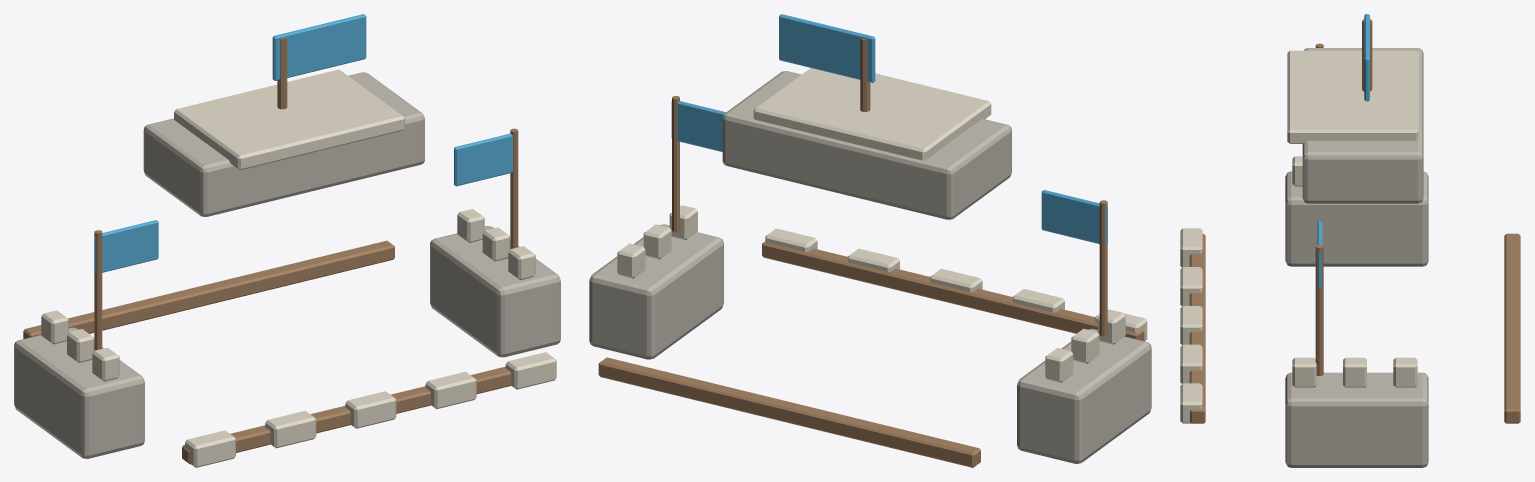
File: hq_theme_castle.glb
The picture shows the model from 3 angles, left to right: view 1: azimuth 30°, elevation 25°; view 2: azimuth 150°, elevation 25°; view 3: azimuth 270°, elevation 25°; orthographic projection. The views are drawn at different scales.
Visible parts, largest first — view 1: Castle_CommandCrown, Castle_CommandCrownTrim, Castle_Shoulder_R, Castle_Shoulder_L, Castle_WoodBeam_Back, Castle_CommandFlag, Castle_WoodBeam_Front, Castle_Flag, Castle_Flag.001, Castle_FrontCrenel.001, Castle_FrontCrenel.002, Castle_FrontCrenel.003 (+11 smaller); view 2: Castle_CommandCrown, Castle_CommandCrownTrim, Castle_Shoulder_L, Castle_Shoulder_R, Castle_WoodBeam_Back, Castle_WoodBeam_Front, Castle_CommandFlag, Castle_Flag, Castle_Flag.001, Castle_FlagPole, Castle_FlagPole.001, Castle_Merlon.002 (+10 smaller); view 3: Castle_Shoulder_R, Castle_CommandCrownTrim, Castle_Shoulder_L, Castle_CommandCrown, Castle_WoodBeam_Back, Castle_WoodBeam_Front, Castle_FlagPole.001, Castle_Merlon.005, Castle_Merlon.003, Castle_FrontCrenel.004, Castle_FrontCrenel.003, Castle_Merlon.004 (+5 smaller).
Part boxes in pixels (x1,y1,x2,y2): Castle_CommandCrown: (143,72,424,216); Castle_CommandCrownTrim: (174,69,404,170); Castle_Shoulder_R: (430,226,560,357); Castle_Shoulder_L: (14,327,144,458); Castle_WoodBeam_Back: (23,240,394,338); Castle_CommandFlag: (272,14,366,80); Castle_WoodBeam_Front: (182,366,511,464); Castle_Flag: (94,220,158,273); Castle_Flag.001: (454,133,512,186); Castle_FrontCrenel.001: (265,410,316,448); Castle_FrontCrenel.002: (345,391,396,428); Castle_FrontCrenel.003: (425,371,476,409); Castle_CommandCrown: (722,71,1011,219); Castle_CommandCrownTrim: (753,68,991,160); Castle_Shoulder_L: (1017,328,1151,463); Castle_Shoulder_R: (589,224,723,359); Castle_WoodBeam_Back: (598,357,980,467); Castle_WoodBeam_Front: (762,241,1144,340); Castle_CommandFlag: (779,14,875,82); Castle_Flag: (1041,190,1107,244); Castle_Flag.001: (671,101,725,151); Castle_FlagPole: (1099,200,1107,336); Castle_FlagPole.001: (672,96,679,231); Castle_Merlon.002: (1045,348,1073,382); Castle_Shoulder_R: (1285,372,1428,467); Castle_CommandCrownTrim: (1287,50,1418,143); Castle_Shoulder_L: (1285,171,1428,266); Castle_CommandCrown: (1302,48,1423,203); Castle_WoodBeam_Back: (1504,233,1520,423); Castle_WoodBeam_Front: (1189,233,1205,423); Castle_FlagPole.001: (1315,245,1323,376); Castle_Merlon.005: (1393,357,1417,387); Castle_Merlon.003: (1292,357,1316,387); Castle_FrontCrenel.004: (1180,383,1202,423); Castle_FrontCrenel.003: (1180,344,1202,383); Castle_Merlon.004: (1343,357,1366,387).
Bounding box in the file's own units: 5.44 × 3.68 × 3.37.
